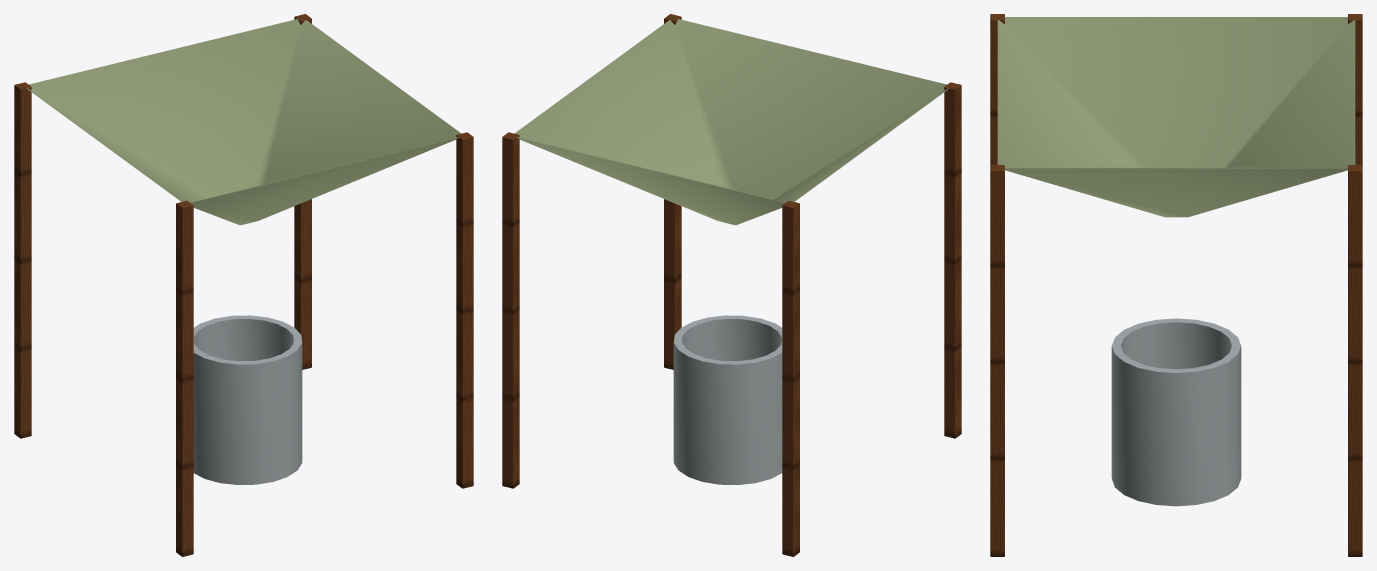
File: water-collection-and-purification-tarp-rain-catcher-aadcc7be__20176.glb
3 renders of one model, left to right at view 1: azimuth 30°, elevation 25°; view 2: azimuth 150°, elevation 25°; view 3: azimuth 270°, elevation 25°, orthographic. The views are drawn at different scales.
Parts seen in each view (by area): view 1: tarp-rain-catcher; view 2: tarp-rain-catcher; view 3: tarp-rain-catcher.
Boxes of the visible parts, x1,y1,x2,y2 form: tarp-rain-catcher: [14, 14, 473, 556]; tarp-rain-catcher: [502, 14, 961, 556]; tarp-rain-catcher: [990, 14, 1362, 556].
Bounding box in the file's own units: 1.27 × 1.45 × 1.27.
3 materials, 1 textured.
